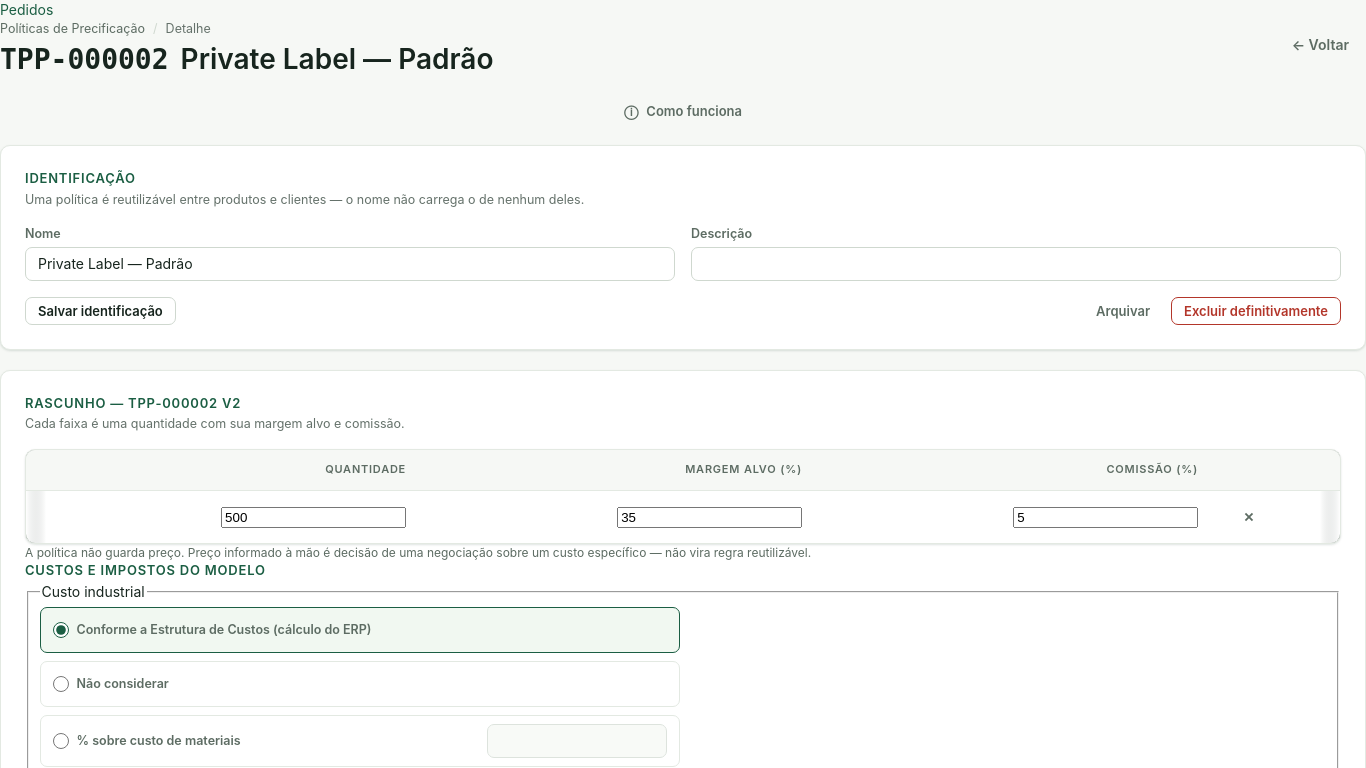
it: Política de Precificação — guarda de alterações não salvas › salvar a identificação não absolve a faixa ainda alterada
The image size is (1366, 768).
Bloco A: identificação. Bloco B: rascunho.
Replace the text in the field labelled "Nome" with "Private Label — Revisada" at (350,264), box [25,247,675,281]
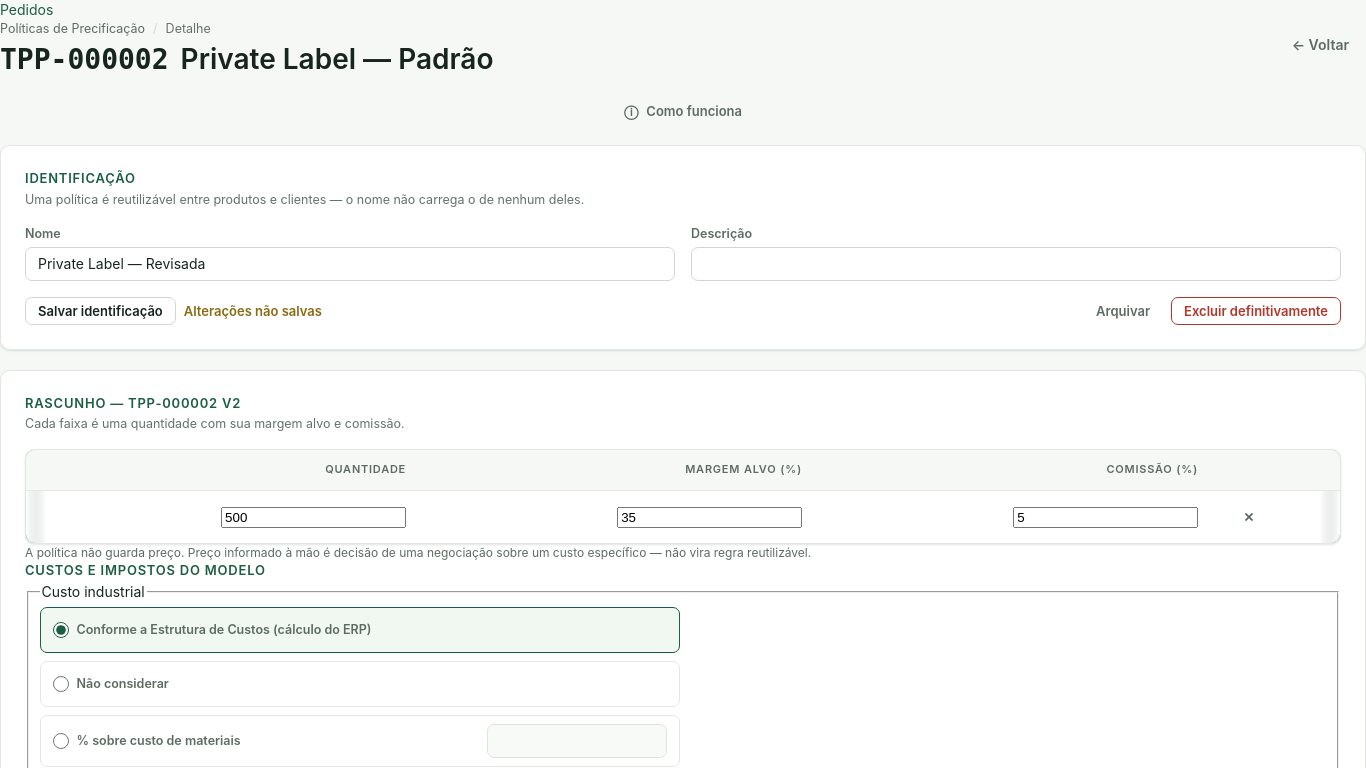
Replace the text in the field named "Quantidade da faixa" with "800" at (314,517), box [221,507,406,528]
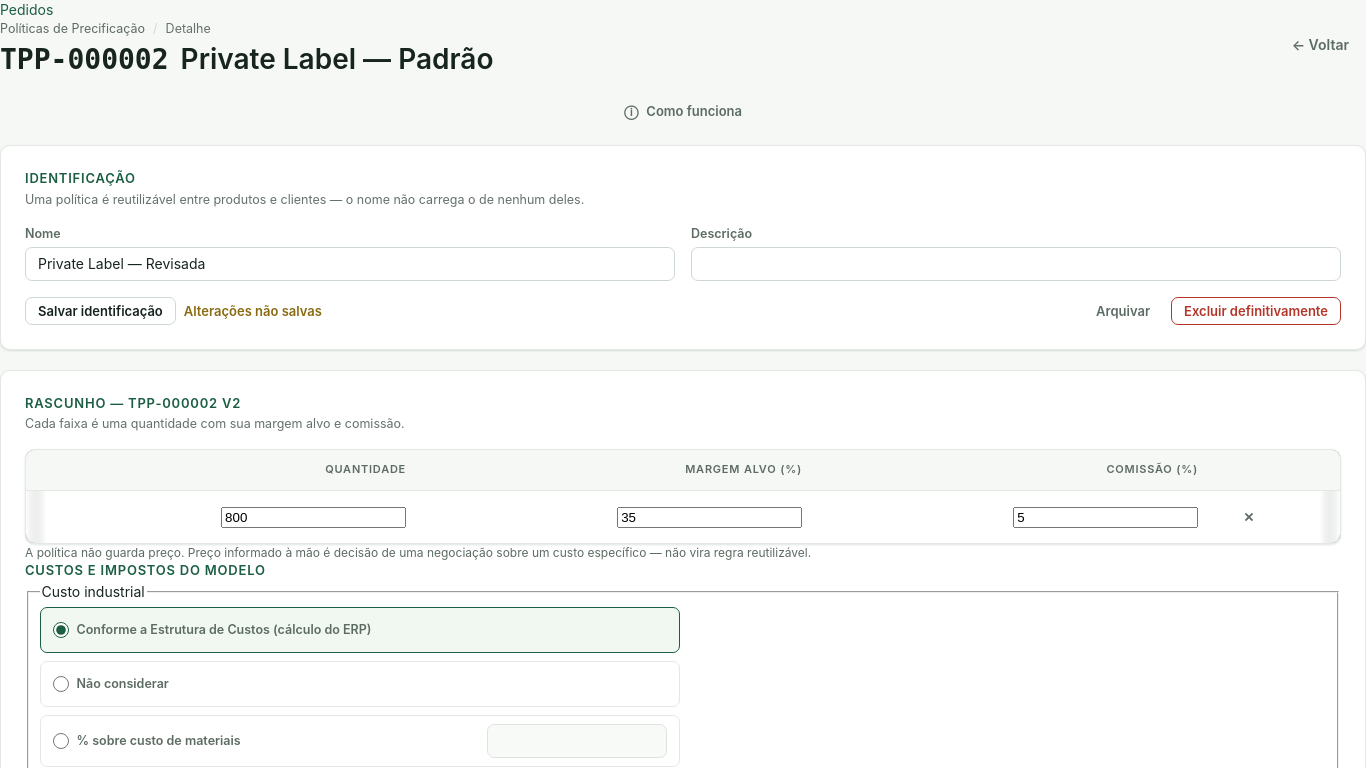
Click the button "Salvar identificação" at (100,311), box [25,297,176,325]
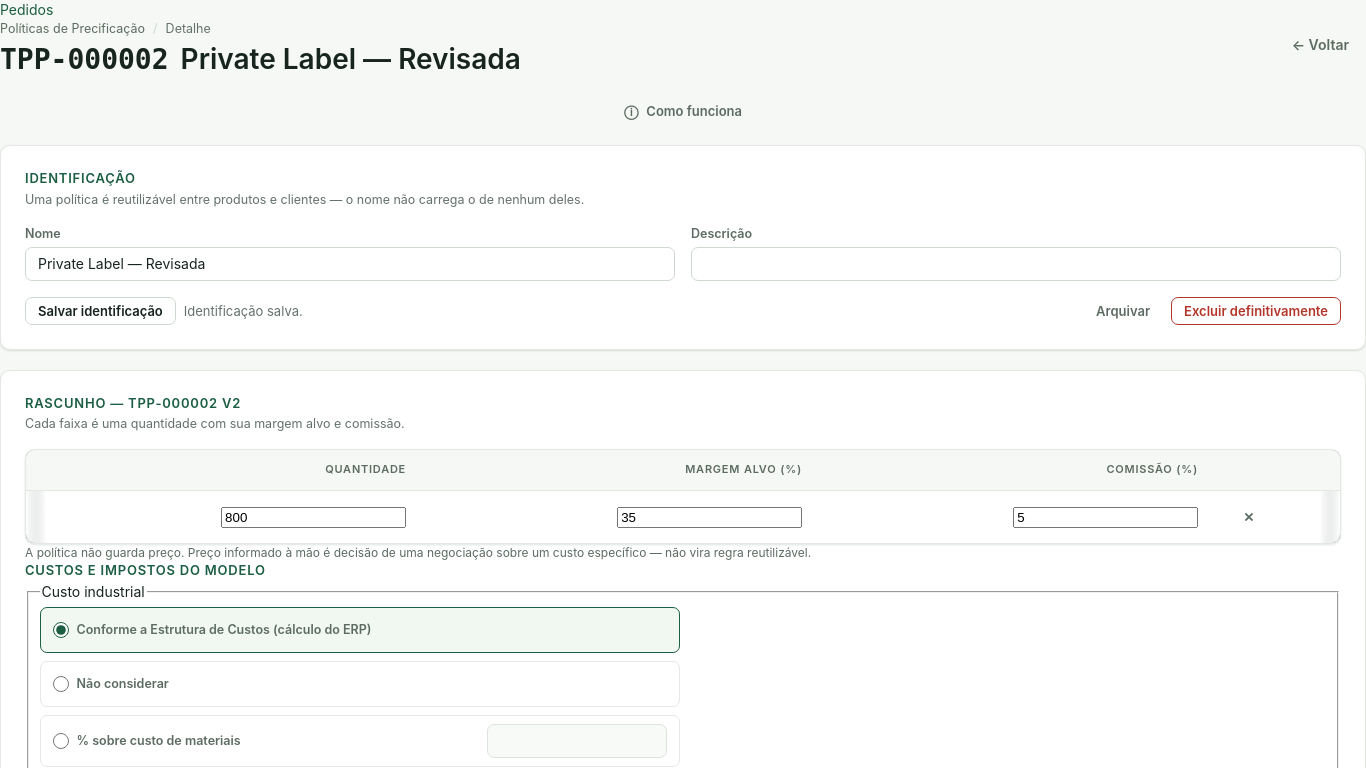
Click the link "Pedidos" at (27,10), box [0,1,53,18]
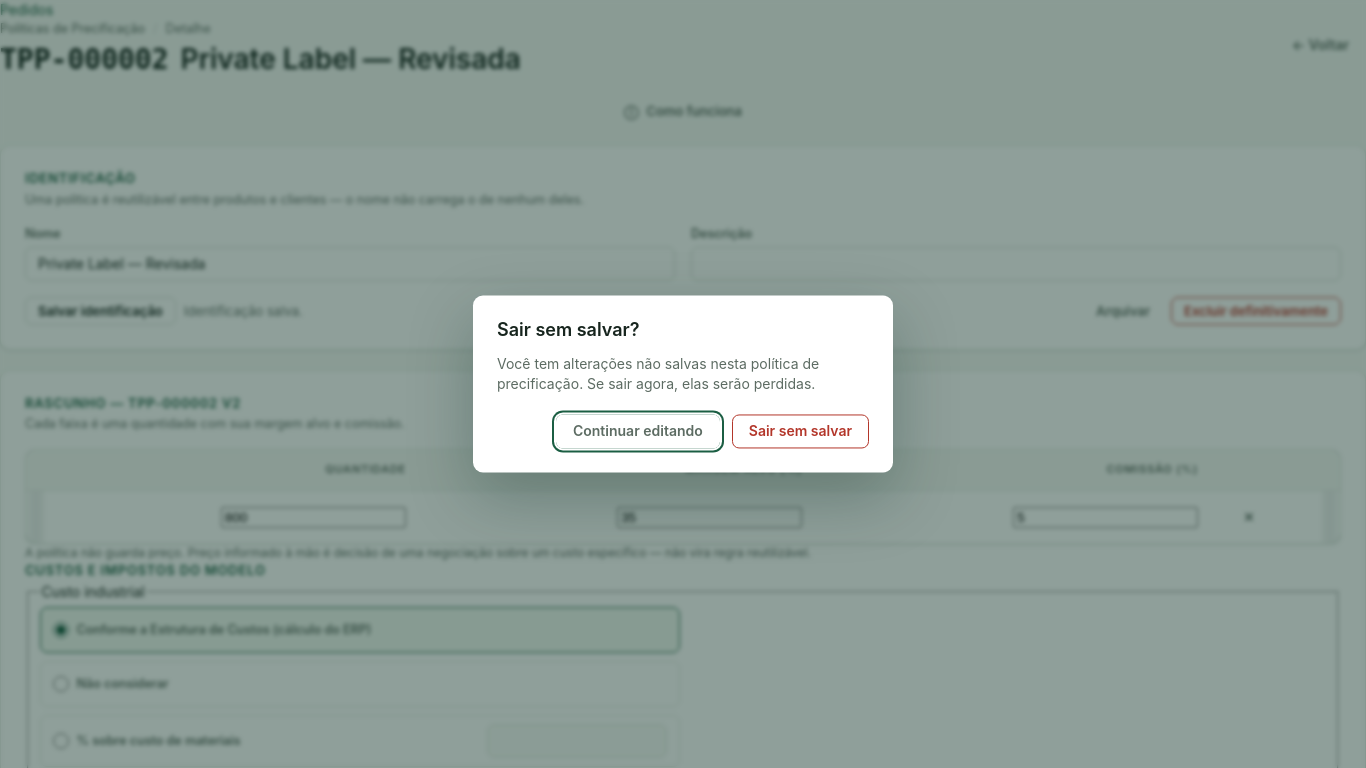
Result: the heading "Sair sem salvar?" is shown at [497,320,640,340]
